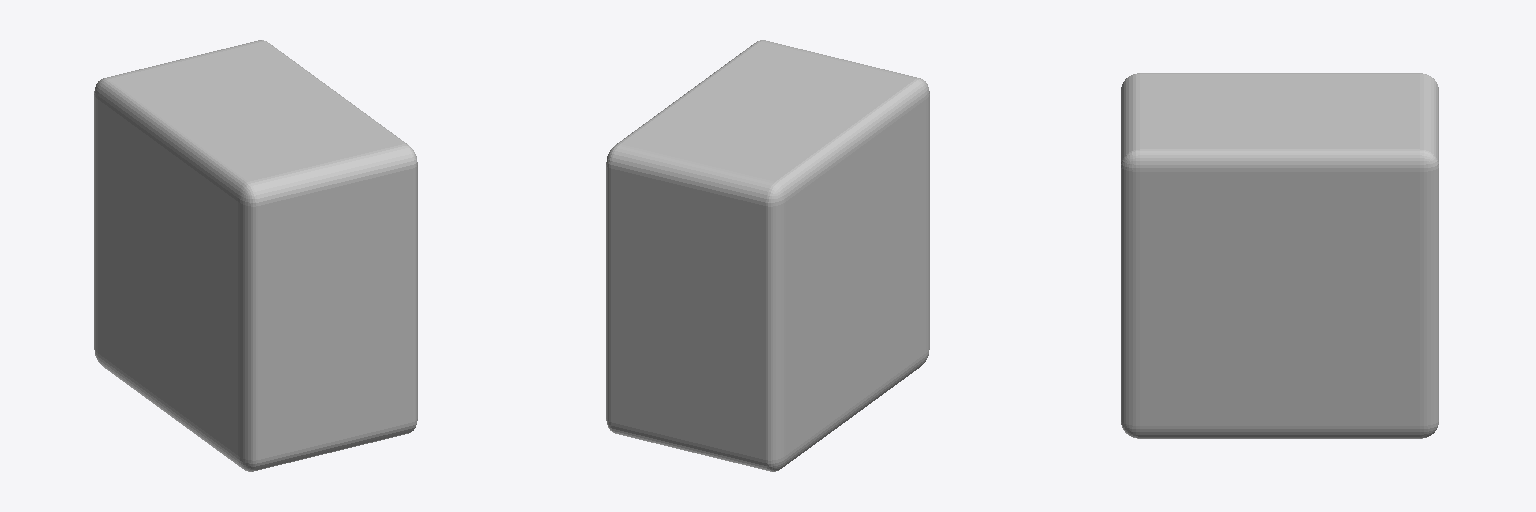
File: bronzovaegzagiq.obj
3 views of the same model, side by side, from view 1: azimuth 30°, elevation 25°; view 2: azimuth 150°, elevation 25°; view 3: azimuth 270°, elevation 25° (orthographic).
Parts seen in each view (by area): view 1: Cube_Cube.001; view 2: Cube_Cube.001; view 3: Cube_Cube.001.
Boxes of the visible parts, x1,y1,x2,y2 form: Cube_Cube.001: [94, 40, 417, 471]; Cube_Cube.001: [606, 40, 929, 471]; Cube_Cube.001: [1121, 73, 1438, 438].
Bounding box in the file's own units: 1.28 × 2 × 2.